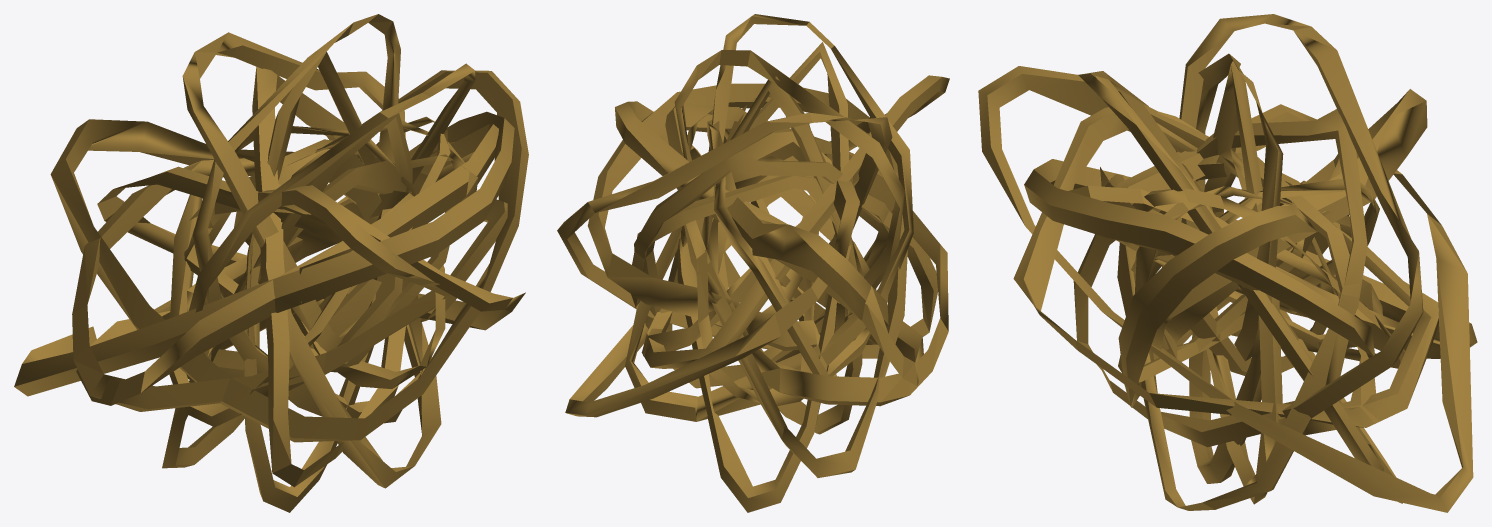
The model's file is midD.glb.
3 renders of one model, left to right at view 1: azimuth 30°, elevation 25°; view 2: azimuth 150°, elevation 25°; view 3: azimuth 270°, elevation 25°, orthographic. The views are drawn at different scales.
Parts seen in each view (by area): view 1: line05; view 2: line05; view 3: line05.
Part boxes in pixels (left/top/right/bottom): line05: left=14, top=14, right=528, bottom=512; line05: left=557, top=14, right=949, bottom=512; line05: left=978, top=14, right=1477, bottom=512.
Size of the model in its own units: 0.0934 by 0.1103 by 0.1015.
